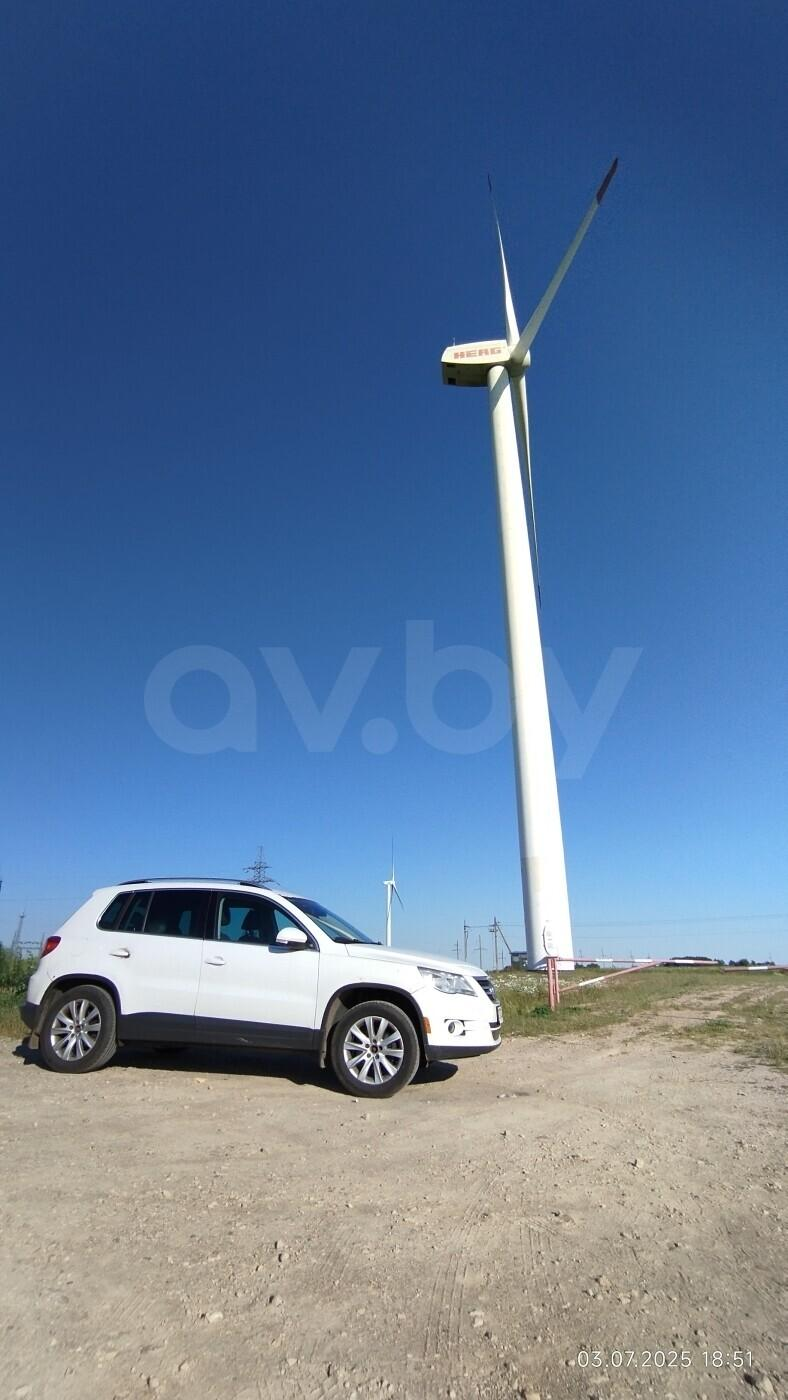Tiguan_2007-2011: (20, 872, 502, 1098)
